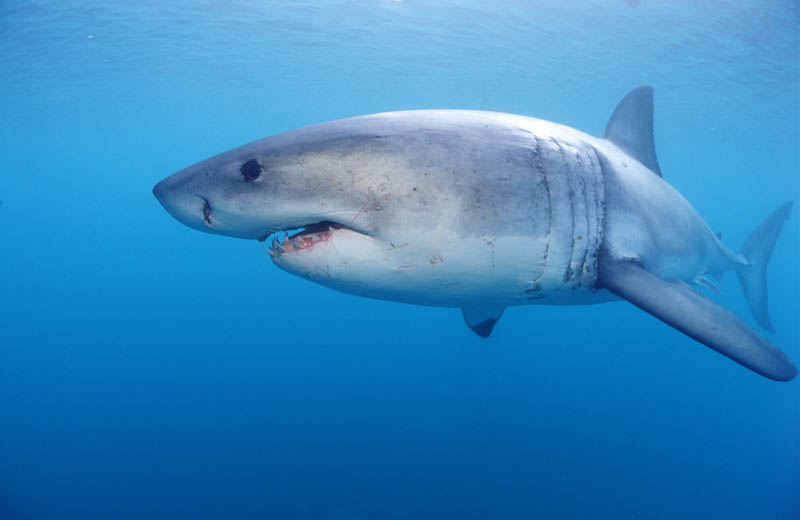Carcharodon_carcharias: (128, 72, 800, 401)
